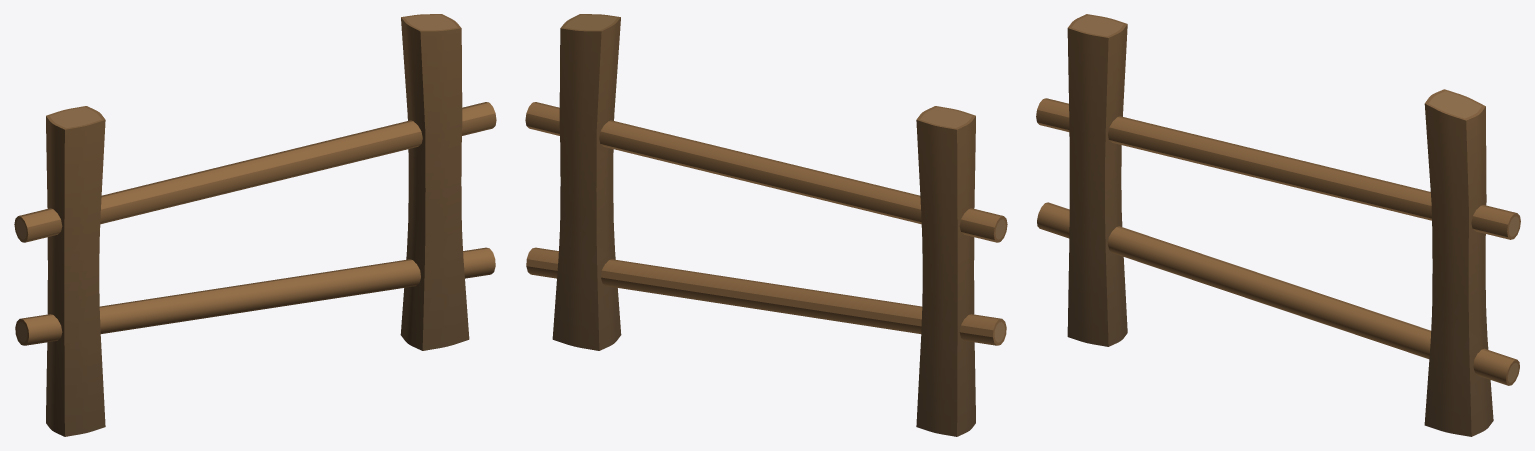
The model's file is Fence_01.fbx.
The picture shows the model from 3 angles, left to right: view 1: azimuth 30°, elevation 25°; view 2: azimuth 150°, elevation 25°; view 3: azimuth 330°, elevation 25°; orthographic projection.
Visible parts, largest first — view 1: Fence_01_LOD0; view 2: Fence_01_LOD0; view 3: Fence_01_LOD0.
Boxes of the visible parts, x1=… form: Fence_01_LOD0: x1=14, y1=14, x2=496, y2=436; Fence_01_LOD0: x1=525, y1=14, x2=1007, y2=436; Fence_01_LOD0: x1=1036, y1=14, x2=1520, y2=436.
Size of what is drawn, in the model's own units: 1.53 by 0.9992 by 0.1425.
